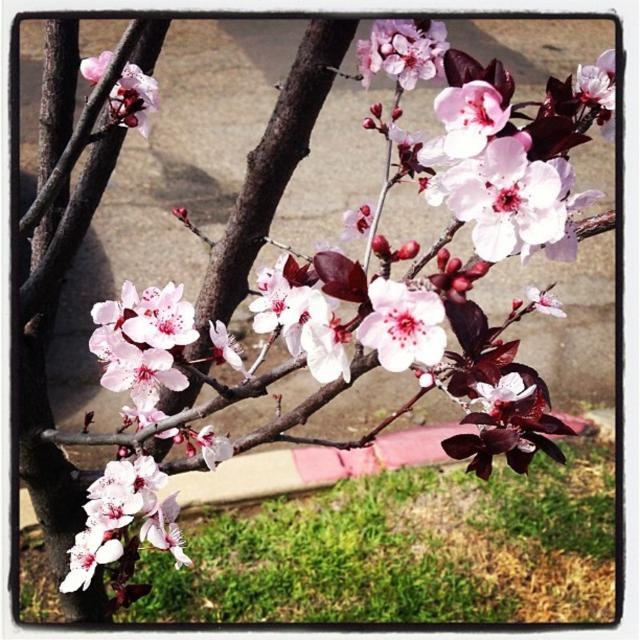Flower: (441, 133, 572, 274), (57, 43, 166, 144), (362, 10, 464, 90), (428, 75, 512, 162), (371, 286, 453, 374), (94, 343, 190, 412), (125, 274, 202, 356), (73, 458, 167, 522), (56, 522, 120, 602), (297, 292, 351, 386), (80, 280, 136, 364), (138, 484, 190, 570), (246, 274, 310, 342), (574, 44, 622, 114), (284, 294, 336, 356), (468, 371, 540, 412), (195, 422, 235, 470), (336, 197, 376, 243), (211, 317, 239, 373), (389, 122, 421, 150)
